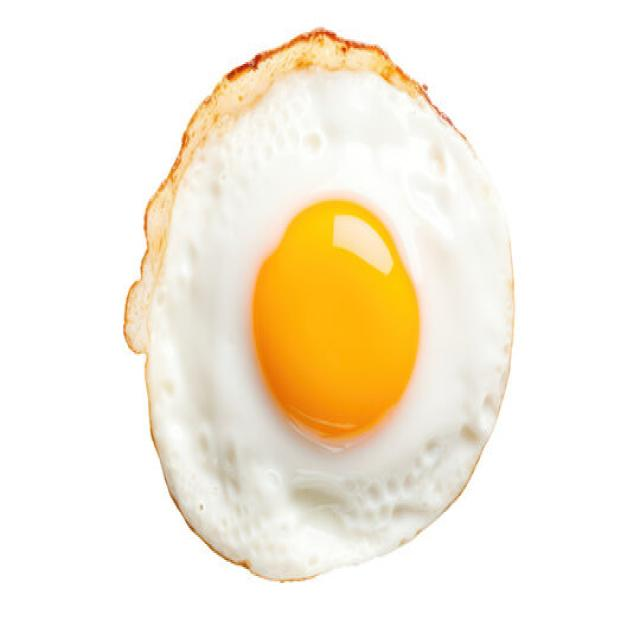Egg: (125, 30, 514, 579)
